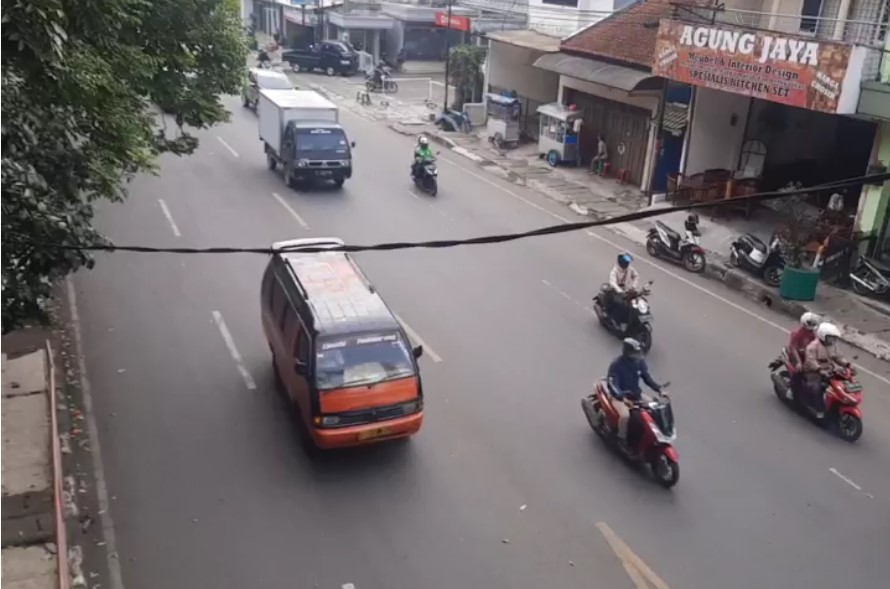mobil: (253, 238, 430, 460), (253, 86, 355, 192)
motor: (581, 344, 700, 494), (770, 311, 870, 445), (594, 252, 665, 357), (407, 136, 446, 203)
